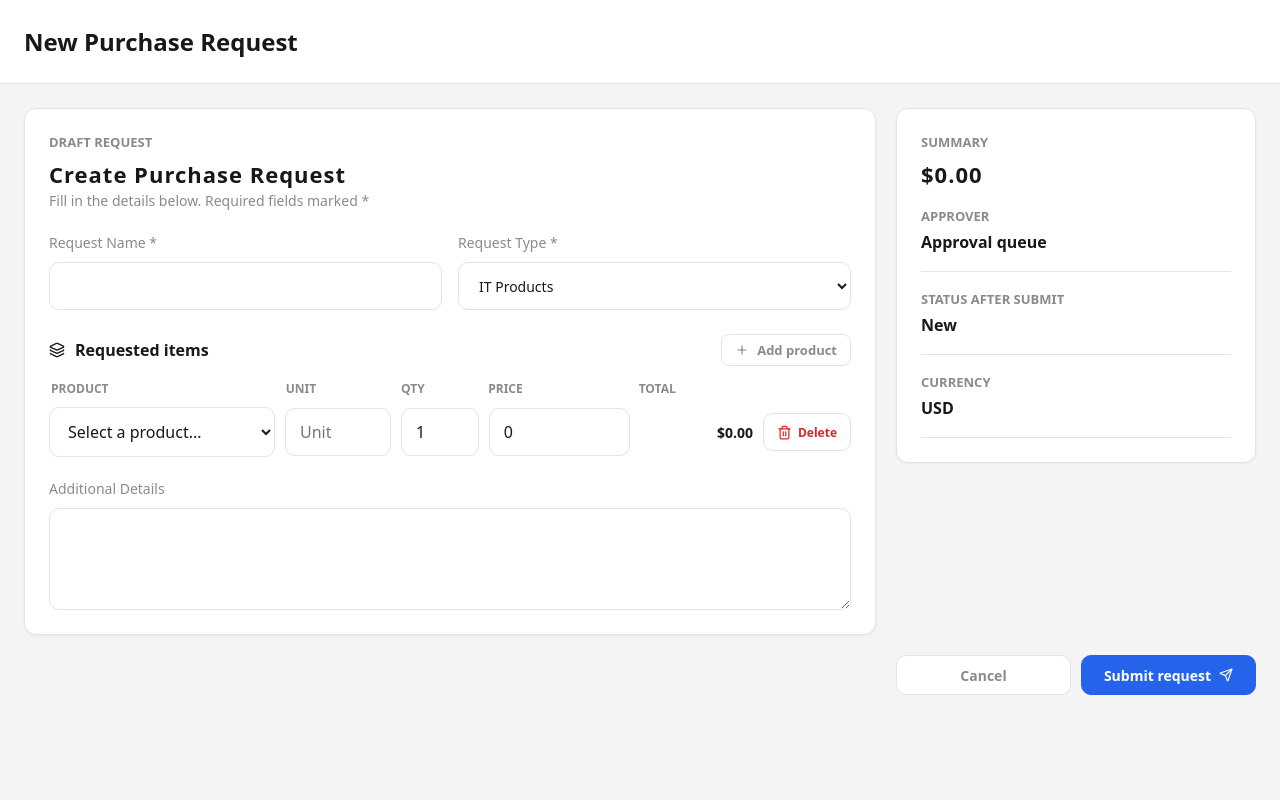
Test: RequestForm › loads backend options and prices products in the account currency
Select "Monitor" in the dropdown named "Product" at (162, 432), box [49,407,275,457]
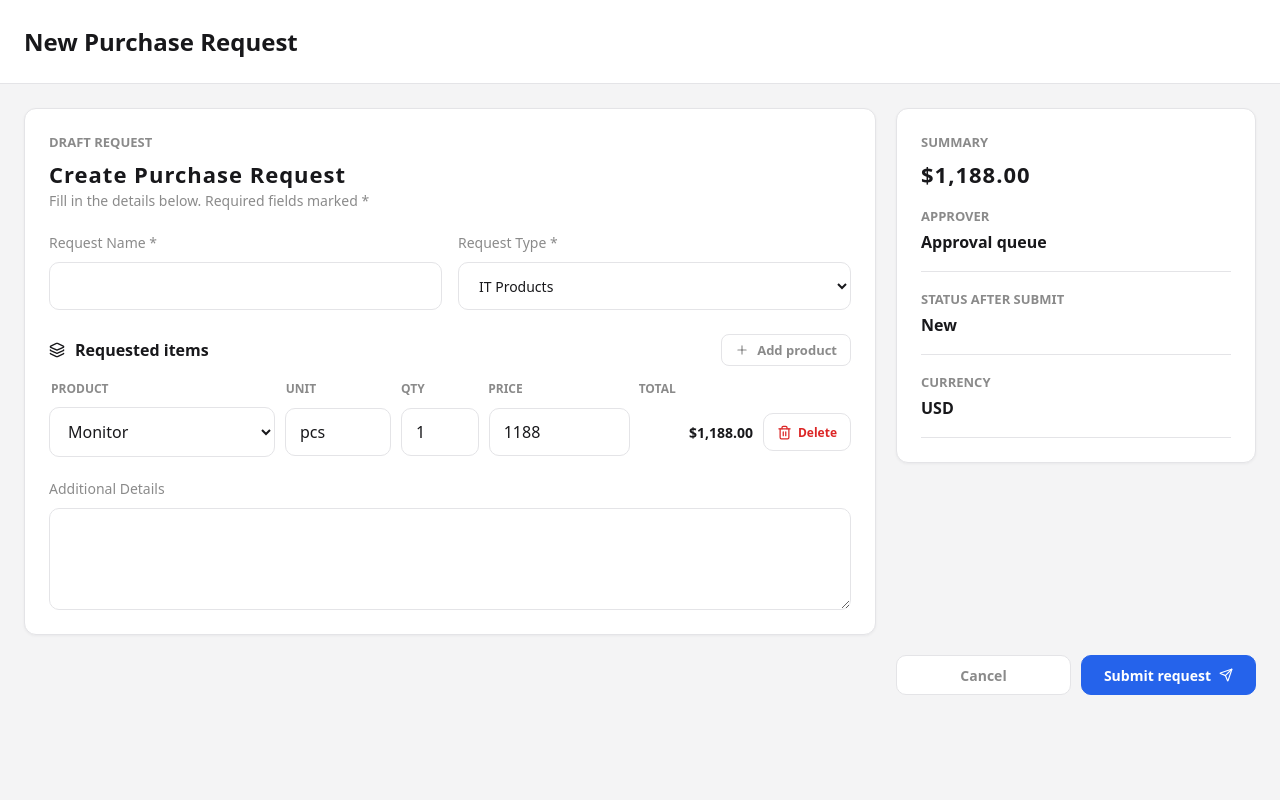
Expected: the text "$1,188.00" is shown 2 times, [689,422,753,442]; [921,159,1031,189]
Now the field named "Unit of measure" holds "pcs", box [285,408,391,456]
Now the number field named "Unit price" holds "1188", box [489,408,630,456]
